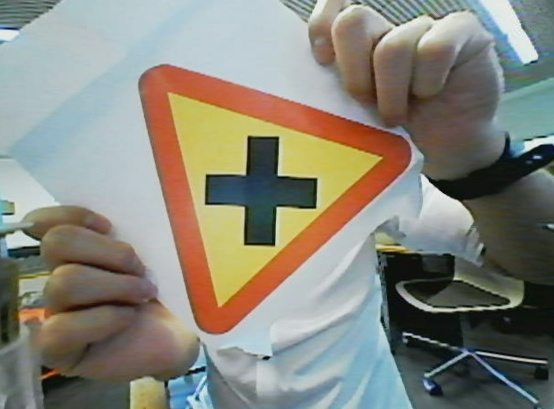junction: (133, 54, 418, 349)
